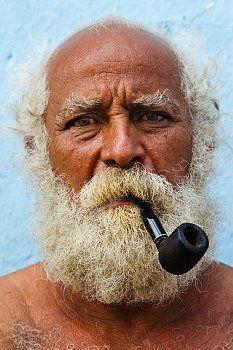trubka: (127, 195, 210, 274)
